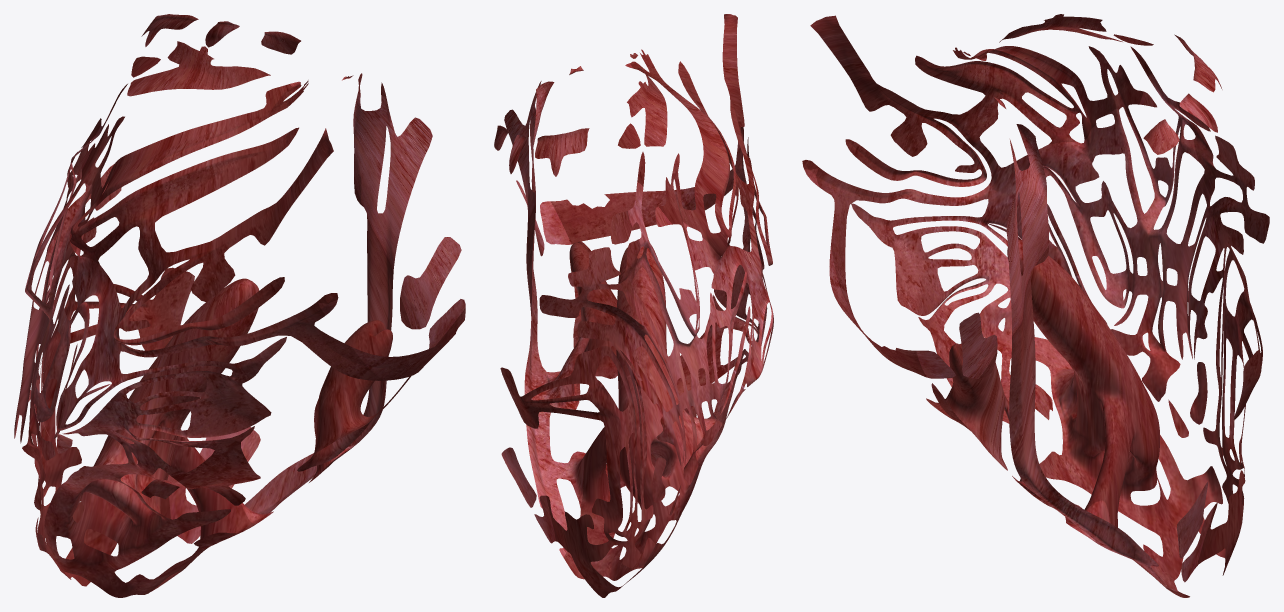
Rendered from Ventrículo Izquierdo_1.FBX.
3 renders of one model, left to right at view 1: azimuth 30°, elevation 25°; view 2: azimuth 150°, elevation 25°; view 3: azimuth 270°, elevation 25°, orthographic. The views are drawn at different scales.
Visible parts, largest first — view 1: sub03; view 2: sub03; view 3: sub03.
Part boxes in pixels (x1,y1,x2,y2): sub03: (14,14,465,597); sub03: (494,14,773,597); sub03: (802,14,1269,597).
Size of the model in its own units: 752 by 1198 by 872.
1 material, 1 textured.
